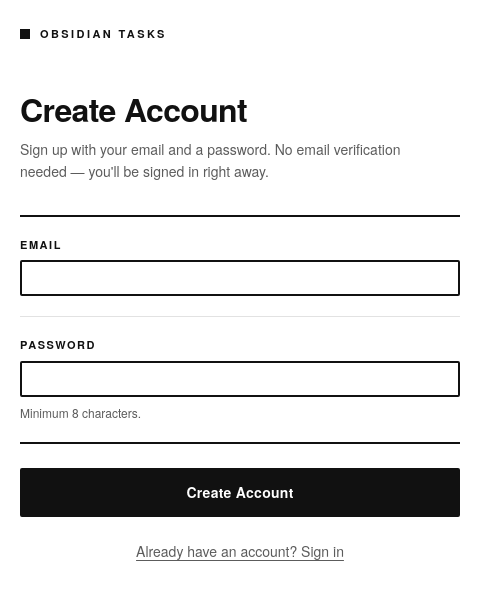
Register screen › [AC-003] shows field-level validation errors for invalid email and empty password
Type "not-an-email" into the field labelled "Email". click: (240,278)
box: [20,260,460,296]
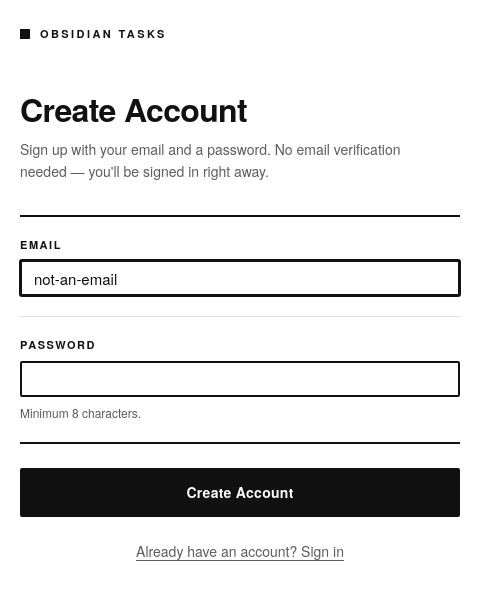
Click the button "Create Account". click: (240,492)
box: [20,468,460,517]
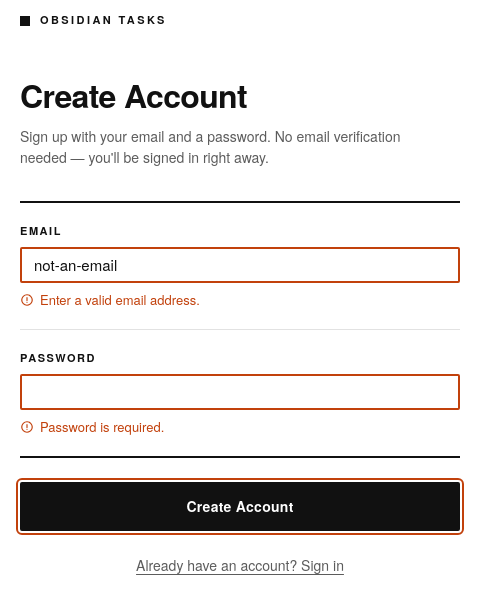
Expected: the text "Enter a valid email address." is shown, [40,291,200,309]
Expected: the text "Password is required." is shown, [40,418,164,436]
